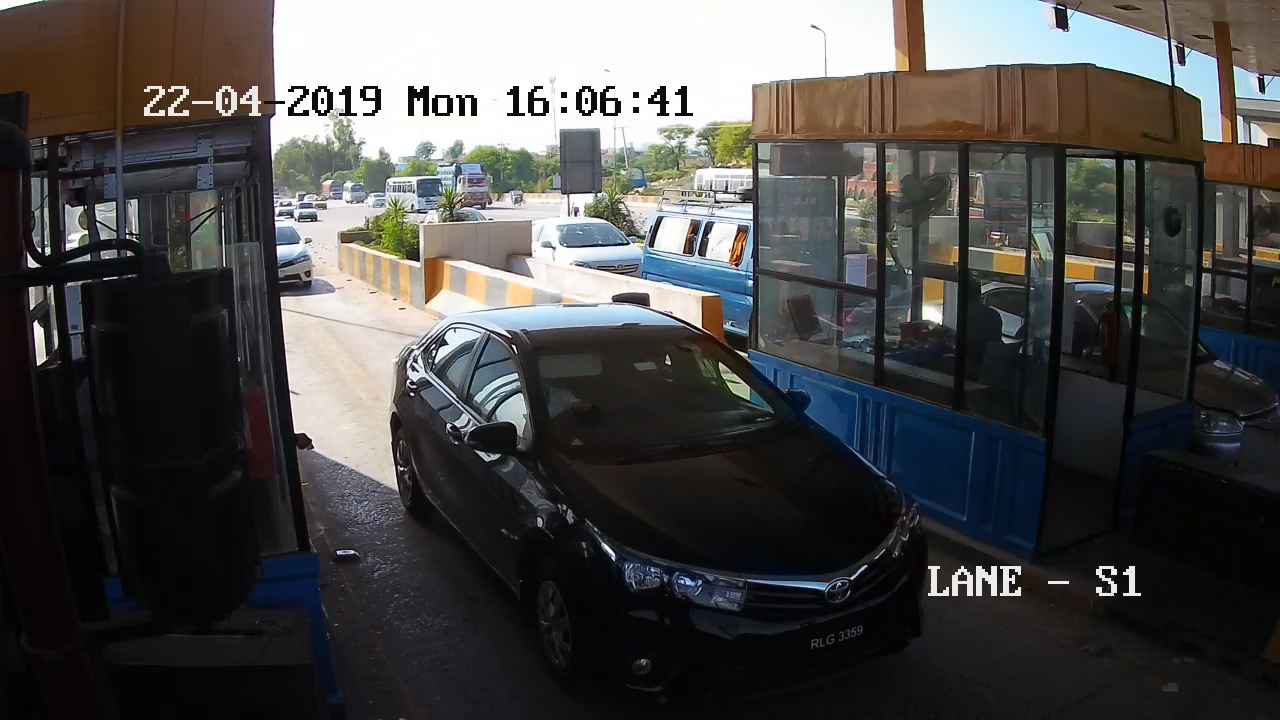Number Plate (Car): (802, 621, 881, 652)
